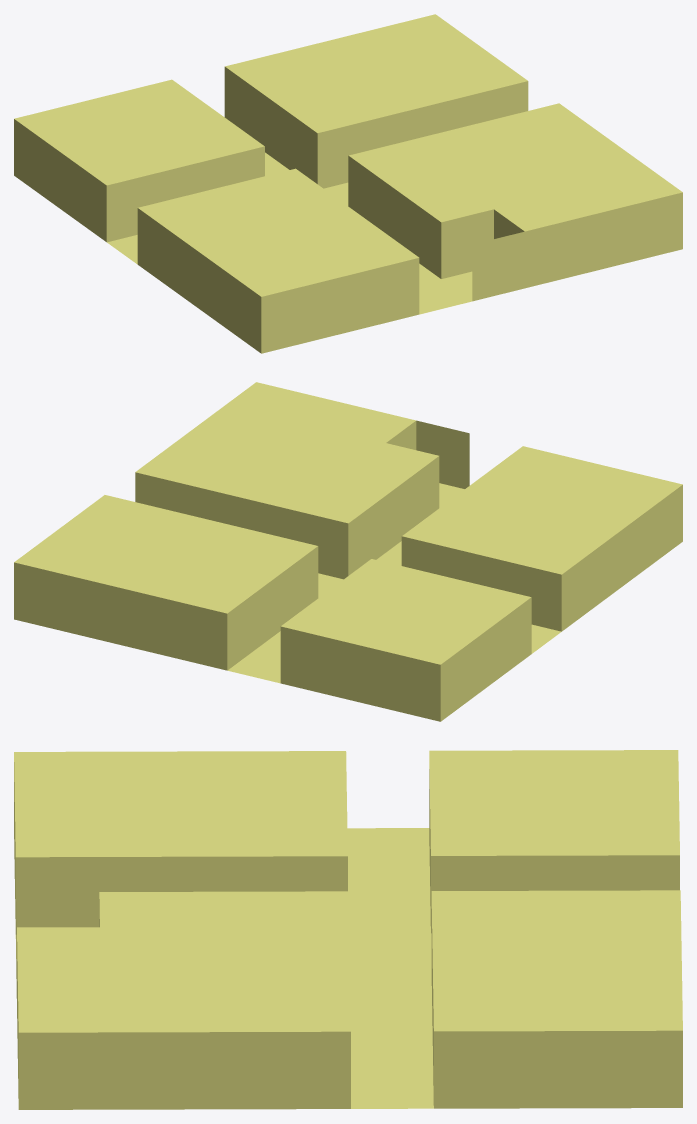
The model's file is Testflooryellow.glb.
3 renders of one model, top to bottom at view 1: azimuth 30°, elevation 25°; view 2: azimuth 150°, elevation 25°; view 3: azimuth 270°, elevation 25°, orthographic. The views are drawn at different scales.
Parts seen in each view (by area): view 1: Cube.003; view 2: Cube.003; view 3: Cube.003.
Part boxes in pixels (box(x1,y1,x2,y2)): Cube.003: box(14, 14, 682, 353); Cube.003: box(14, 382, 682, 721); Cube.003: box(14, 750, 682, 1109).
Size of the model in its own units: 22.76 by 2.9 by 22.76.
